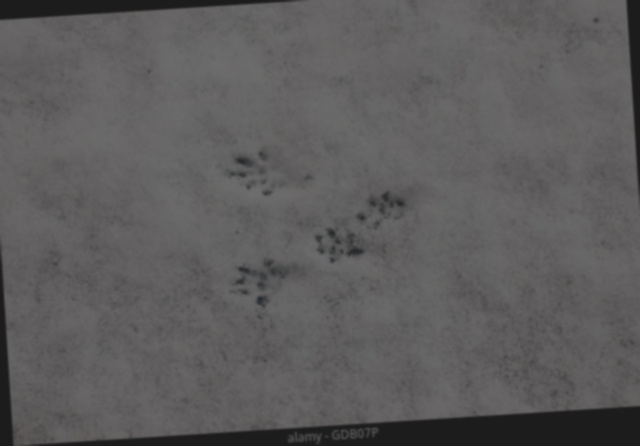ecureuil: (222, 125, 324, 193), (217, 246, 308, 321), (353, 190, 420, 238), (302, 224, 366, 267)
